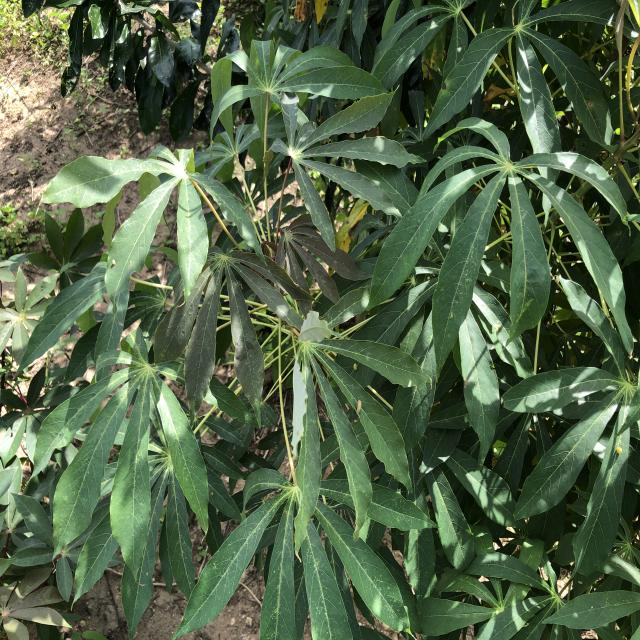Mosca: (348, 399, 368, 421), (41, 490, 59, 510), (348, 357, 365, 374), (111, 254, 124, 275), (613, 440, 627, 457), (204, 487, 221, 501)
